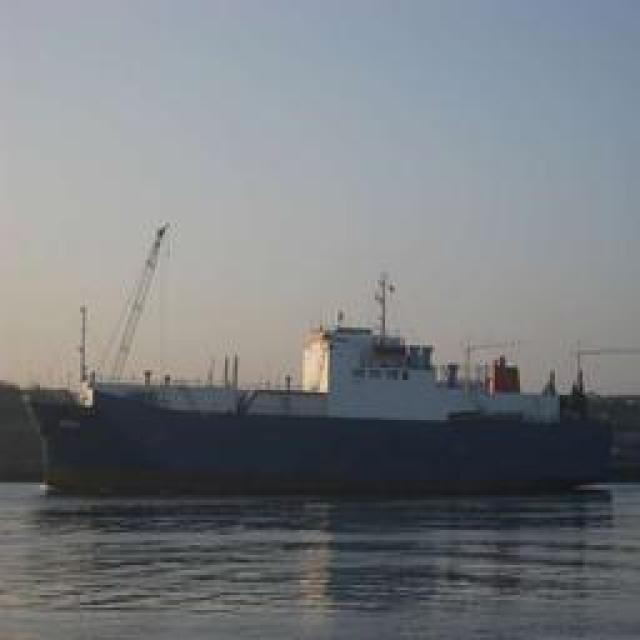CIV_Ship: (20, 308, 628, 494)
